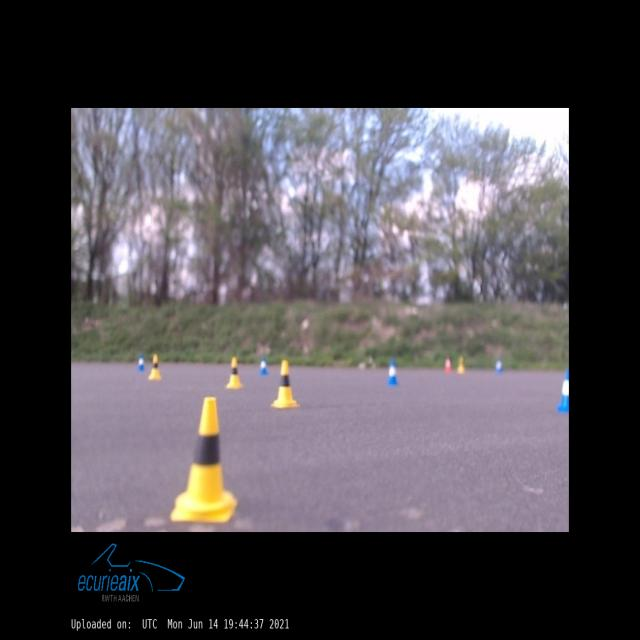blue_cone: (557, 368, 568, 412), (388, 360, 398, 385), (260, 357, 268, 375), (138, 355, 144, 371), (496, 359, 502, 373)
orange_cone: (444, 357, 451, 372)
yellow_cone: (170, 397, 238, 523), (270, 360, 300, 407), (226, 357, 242, 388), (149, 354, 161, 379), (457, 356, 465, 373)
